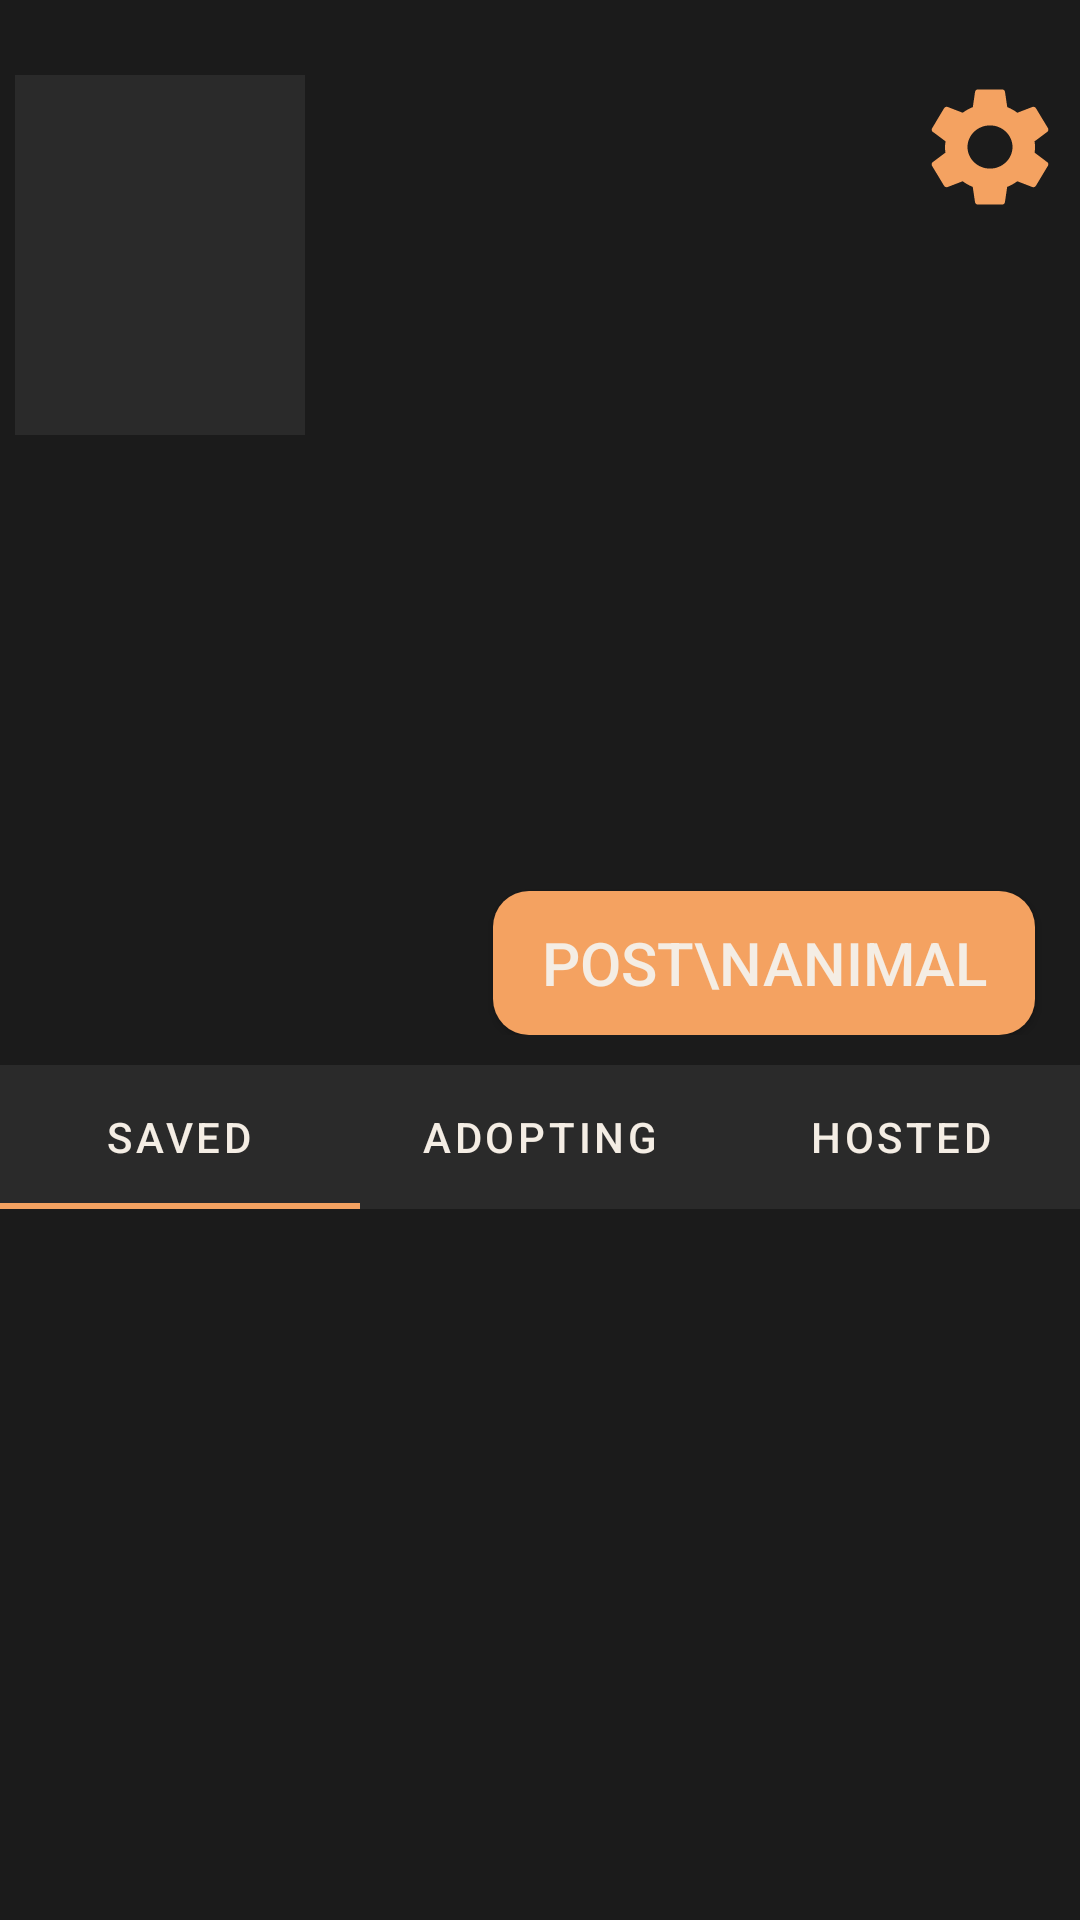

Icon click points for this 1080×1920 phone screenshot, format (x,y):
settings: (990,147)
